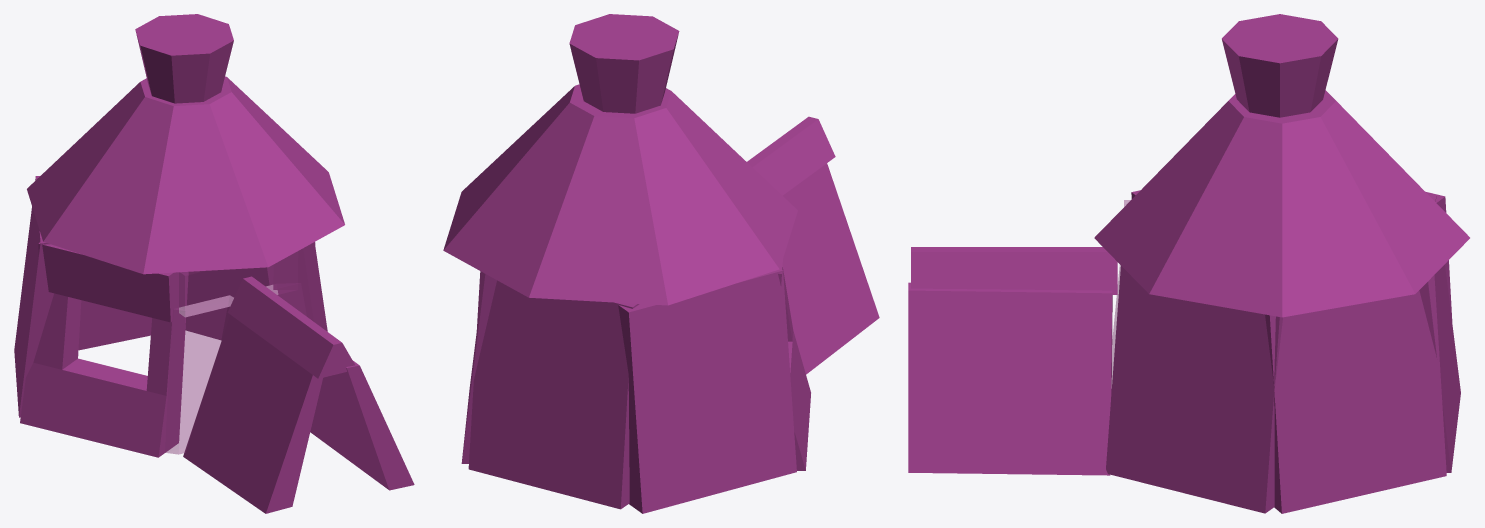
File: SM_Bld_Tent_Small_02_Collision.fbx
3 renders of one model, left to right at view 1: azimuth 30°, elevation 25°; view 2: azimuth 150°, elevation 25°; view 3: azimuth 270°, elevation 25°, orthographic. The views are drawn at different scales.
Parts seen in each view (by area): view 1: SM_Bld_Tent_Small_02_Collision; view 2: SM_Bld_Tent_Small_02_Collision; view 3: SM_Bld_Tent_Small_02_Collision.
Part boxes in pixels (x1=…): SM_Bld_Tent_Small_02_Collision: x1=14, y1=14, x2=414, y2=513; SM_Bld_Tent_Small_02_Collision: x1=443, y1=14, x2=879, y2=513; SM_Bld_Tent_Small_02_Collision: x1=908, y1=14, x2=1469, y2=513.
Size of the model in its own units: 542 by 585 by 748.
